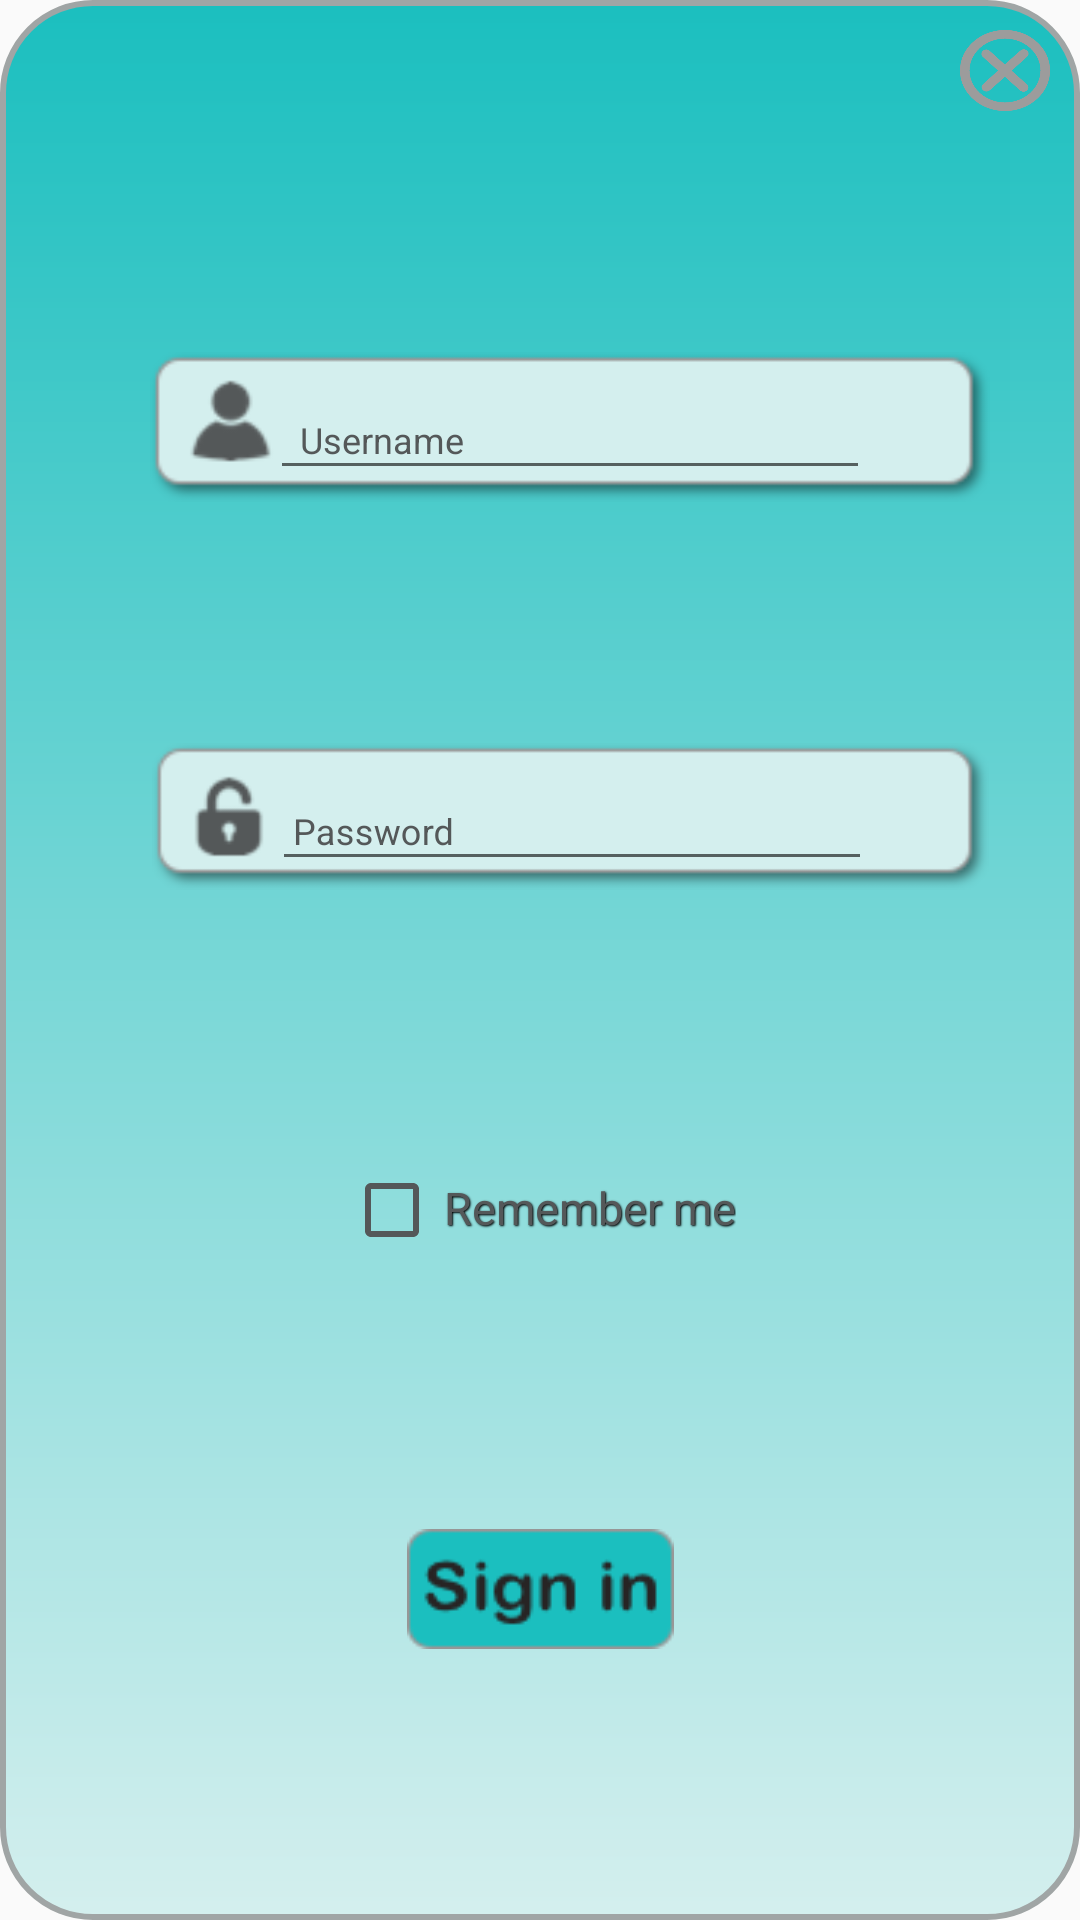

Icons on this 1080px x 1920px Android screen, each with its box as (x1, y1, x2, y2):
exit: (960, 30, 1050, 111)
